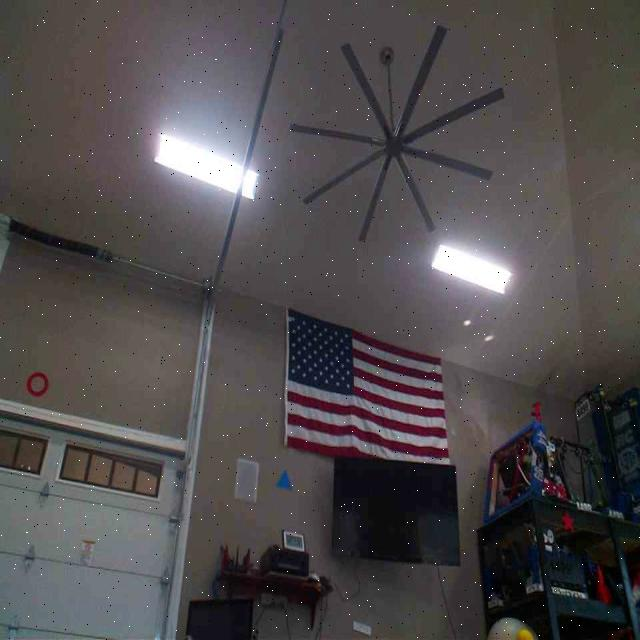ring_red: (25, 369, 49, 397)
star_red: (559, 508, 574, 532)
triangle_blue: (275, 468, 293, 491)
